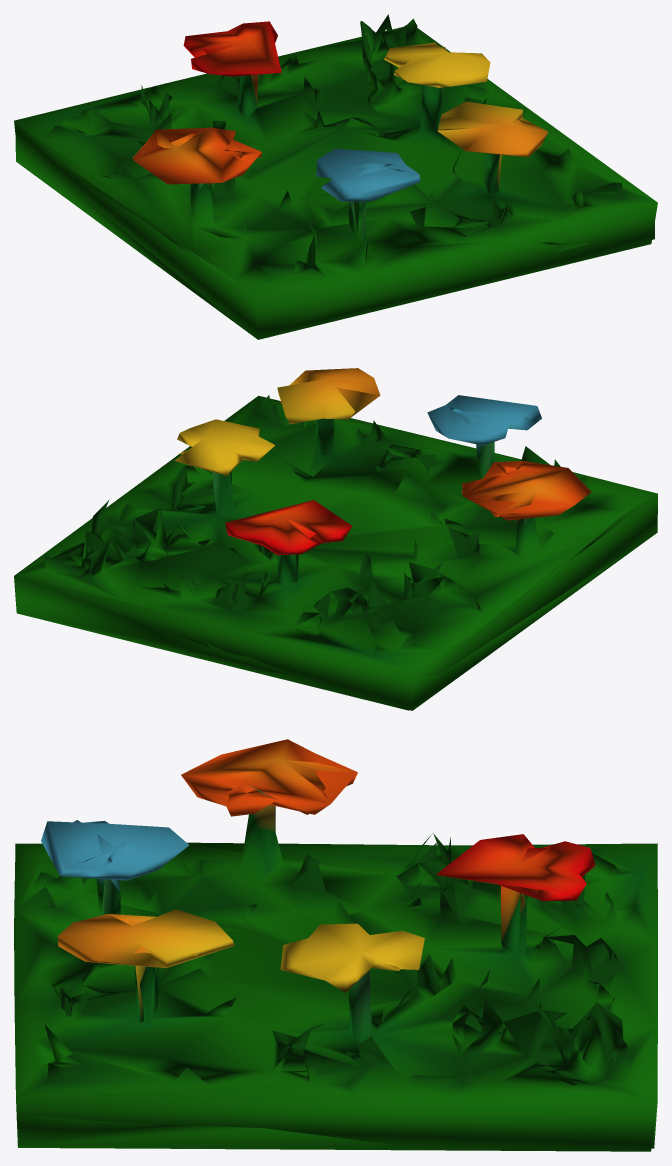
Rendered from gen3d-wildflower-patch-lod1.glb.
3 renders of one model, top to bottom at view 1: azimuth 30°, elevation 25°; view 2: azimuth 150°, elevation 25°; view 3: azimuth 270°, elevation 25°, orthographic. The views are drawn at different scales.
Visible parts, largest first — view 1: part_0; view 2: part_0; view 3: part_0.
Part boxes in pixels (left/top/right/bottom): part_0: left=14, top=14, right=657, bottom=339; part_0: left=14, top=368, right=657, bottom=710; part_0: left=14, top=739, right=657, bottom=1151.
Bounding box in the file's own units: 3.77 × 0.9831 × 3.81.
